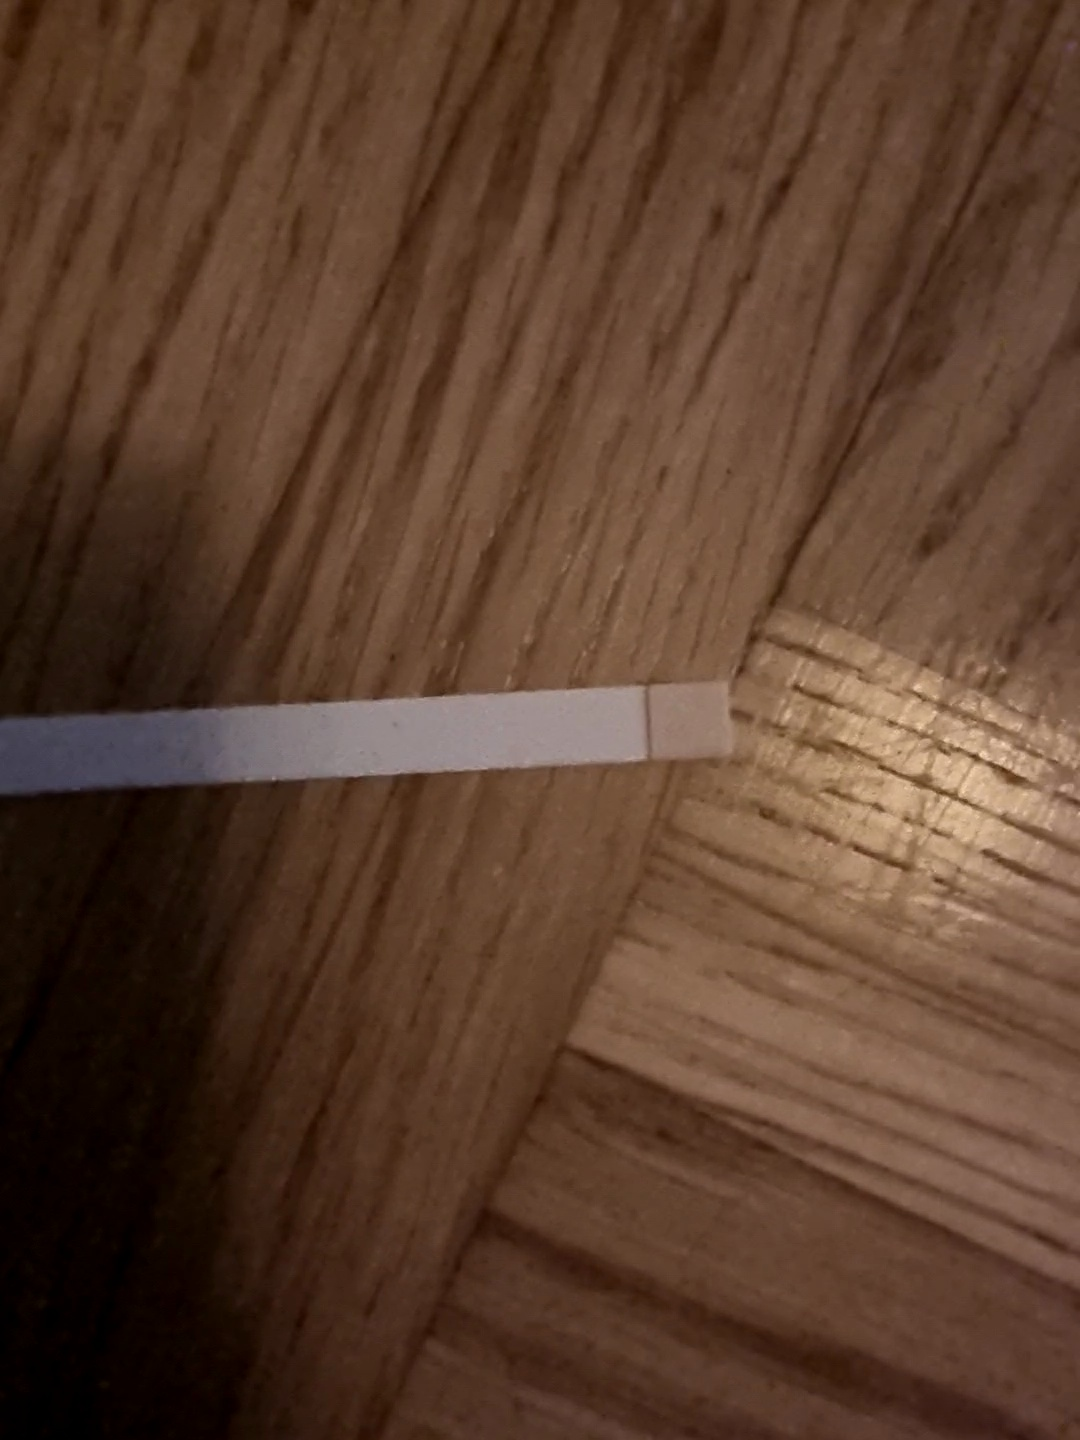keto-tip: (641, 676, 736, 763)
